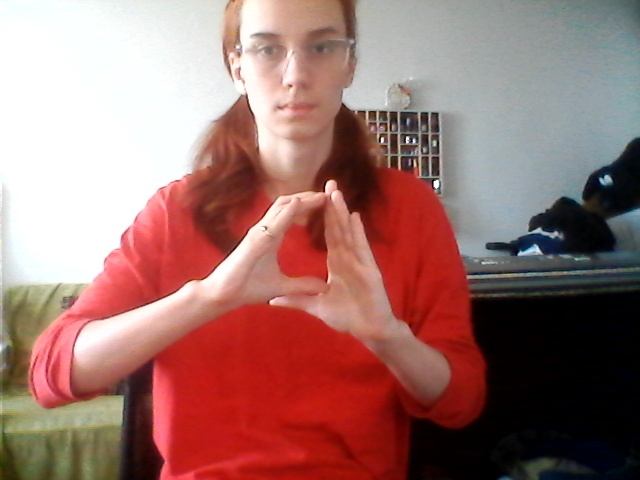d: (234, 177, 398, 341)
